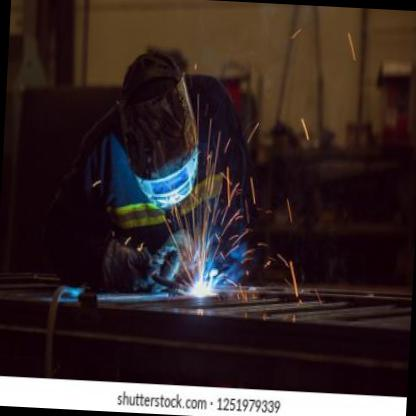Gloves: (150, 224, 197, 294), (100, 237, 151, 290)
